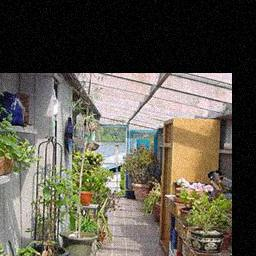Armario: (159, 120, 173, 251)
Matera: (62, 113, 98, 256), (18, 184, 76, 256), (185, 189, 228, 251), (125, 146, 152, 198), (0, 106, 14, 182), (76, 162, 98, 205), (144, 182, 165, 222)
